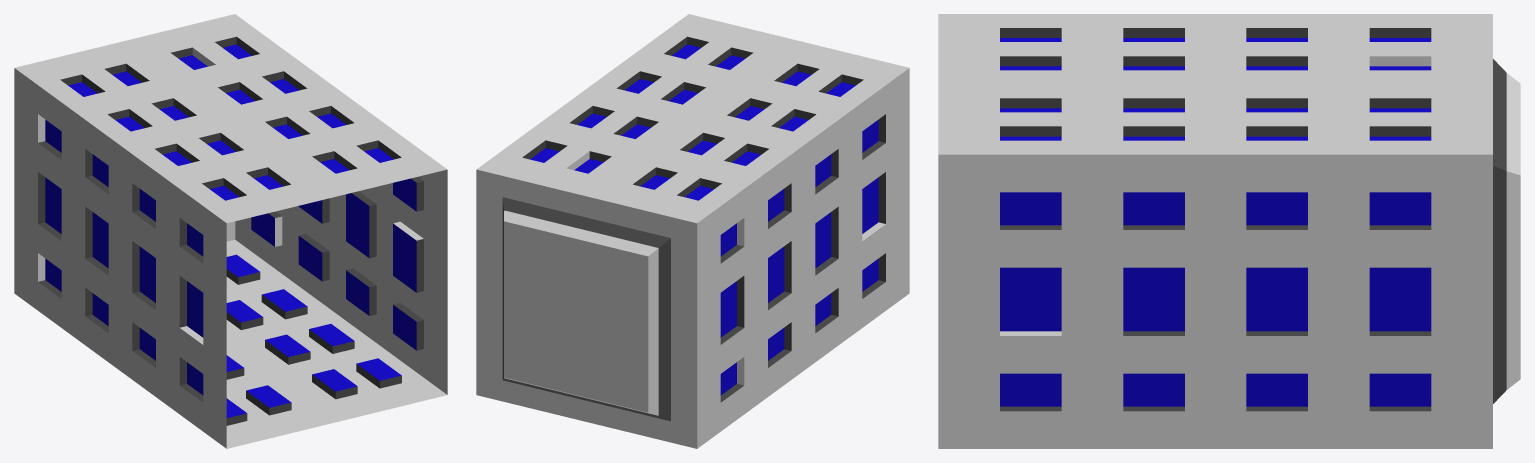
File: Building.fbx
3 views of the same model, side by side, from view 1: azimuth 30°, elevation 25°; view 2: azimuth 150°, elevation 25°; view 3: azimuth 270°, elevation 25° (orthographic). The views are drawn at different scales.
Parts seen in each view (by area): view 1: Icosphere; view 2: Icosphere; view 3: Icosphere.
Boxes of the visible parts, x1,y1,x2,y2 form: Icosphere: [14, 14, 447, 448]; Icosphere: [476, 14, 909, 448]; Icosphere: [938, 14, 1520, 448].
Size of the model in its own units: 600 by 586 by 1050.
